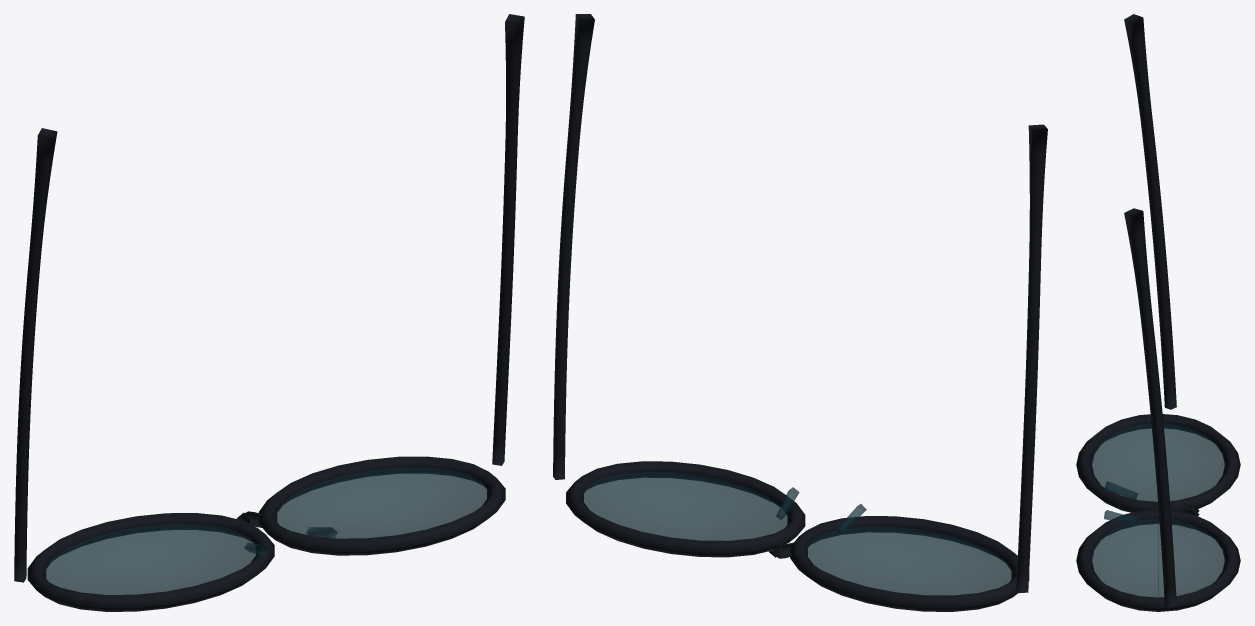
The model's file is ar_glasses_classic_lod2.glb.
3 views of the same model, side by side, from view 1: azimuth 30°, elevation 25°; view 2: azimuth 150°, elevation 25°; view 3: azimuth 270°, elevation 25° (orthographic). The views are drawn at different scales.
Visible parts, largest first — view 1: SM_AR_Glasses_Classic_LOD2; view 2: SM_AR_Glasses_Classic_LOD2; view 3: SM_AR_Glasses_Classic_LOD2.
Boxes of the visible parts, x1,y1,x2,y2 form: SM_AR_Glasses_Classic_LOD2: (14, 14, 524, 611); SM_AR_Glasses_Classic_LOD2: (553, 14, 1047, 611); SM_AR_Glasses_Classic_LOD2: (1076, 14, 1240, 611).
Bounding box in the file's own units: 0.1368 × 0.1266 × 0.0465.
